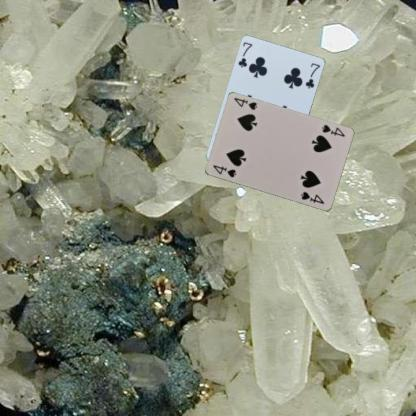4s: (210, 162, 238, 179), (319, 122, 345, 138)
7c: (235, 40, 254, 69)
